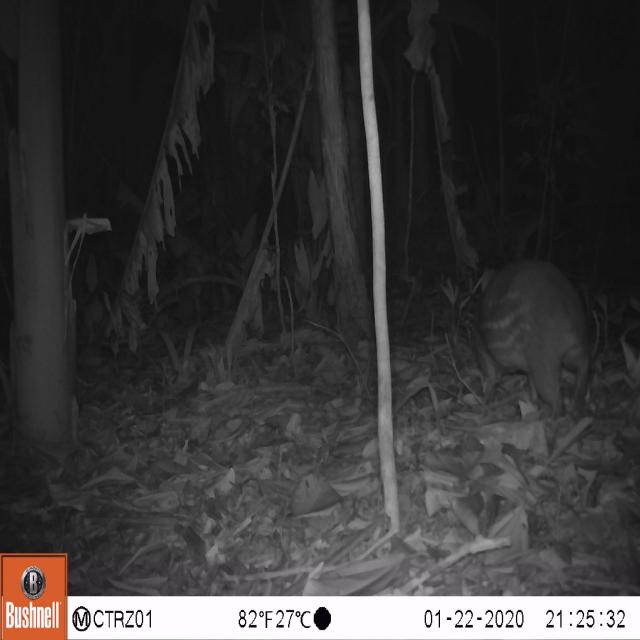Spotted Paca: (462, 257, 606, 422)
